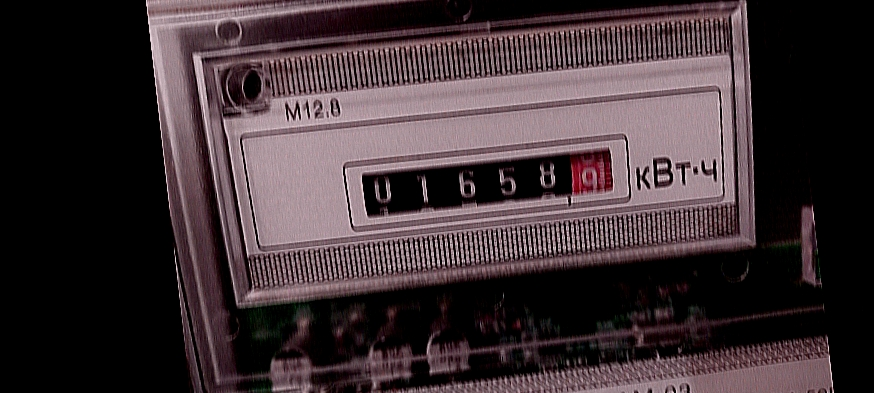0: (374, 171, 397, 203)
1: (417, 170, 437, 204)
5: (498, 162, 523, 195)
6: (458, 164, 482, 199)
8: (539, 155, 562, 189)
9: (580, 164, 604, 194)
screen: (335, 122, 643, 238)
